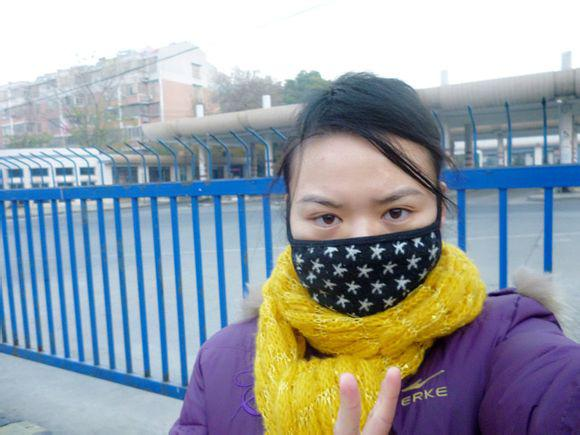OK: (299, 173, 447, 321)
